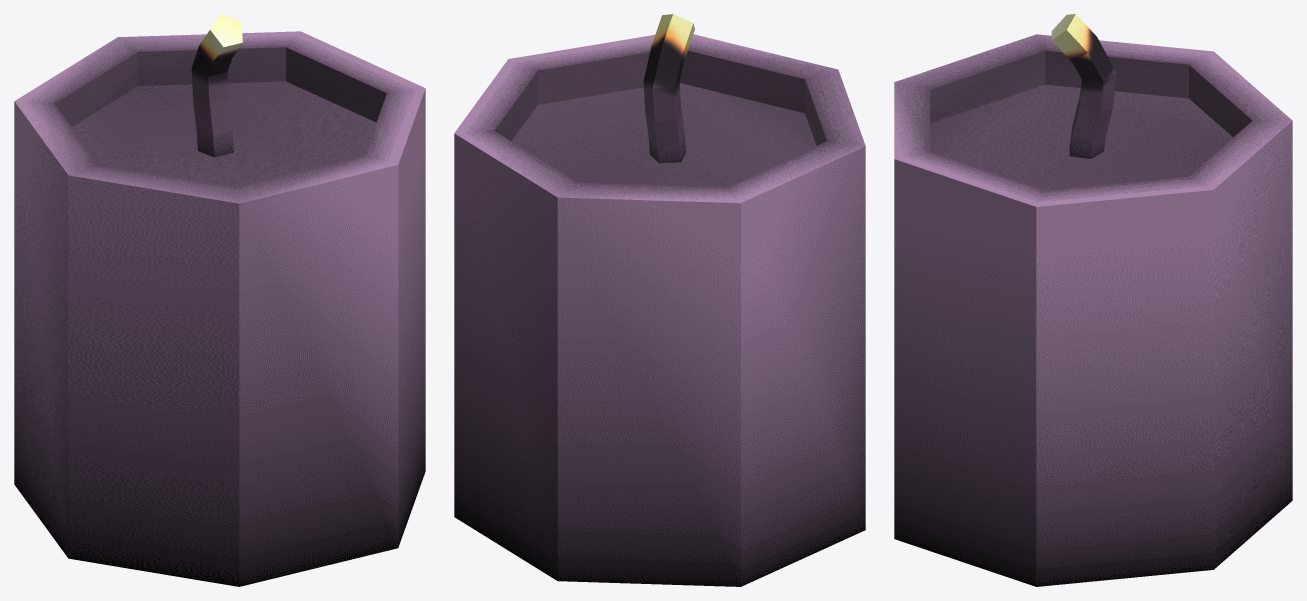
The model's file is LD56_candleShort.fbx.
3 views of the same model, side by side, from view 1: azimuth 30°, elevation 25°; view 2: azimuth 150°, elevation 25°; view 3: azimuth 270°, elevation 25° (orthographic).
Visible parts, largest first — view 1: candleShort; view 2: candleShort; view 3: candleShort.
Part boxes in pixels (x1=…): candleShort: x1=14, y1=14, x2=425, y2=586; candleShort: x1=454, y1=14, x2=865, y2=586; candleShort: x1=894, y1=14, x2=1292, y2=586.
Bounding box in the file's own units: 195 × 255 × 190.
